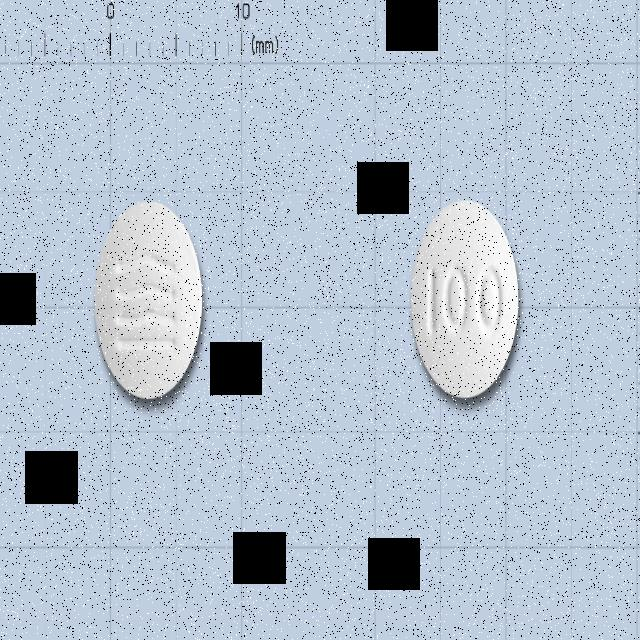Levotra: (94, 198, 204, 400), (411, 197, 520, 398)
